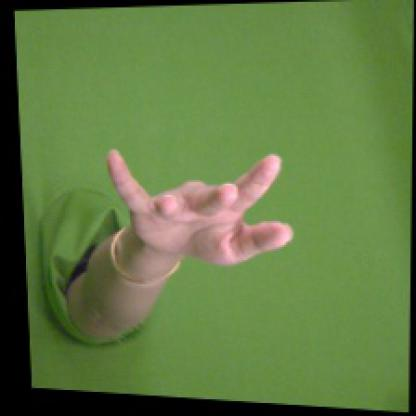Hand: (107, 148, 293, 264)
